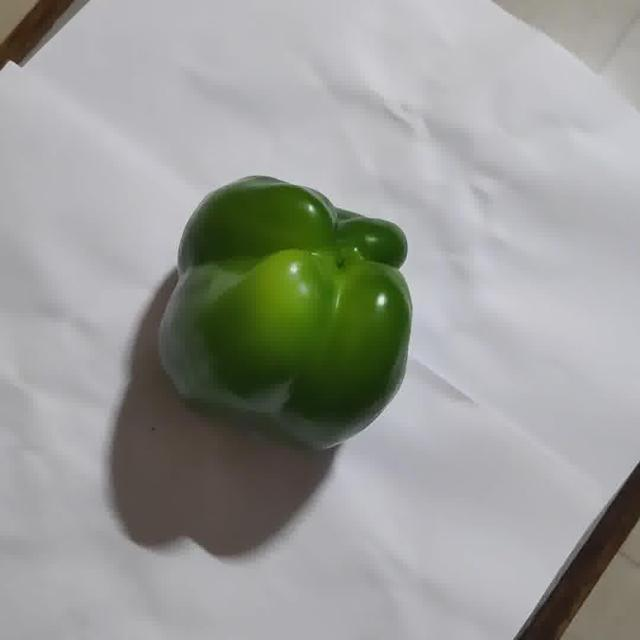Bell Pepper: (159, 177, 412, 449)
